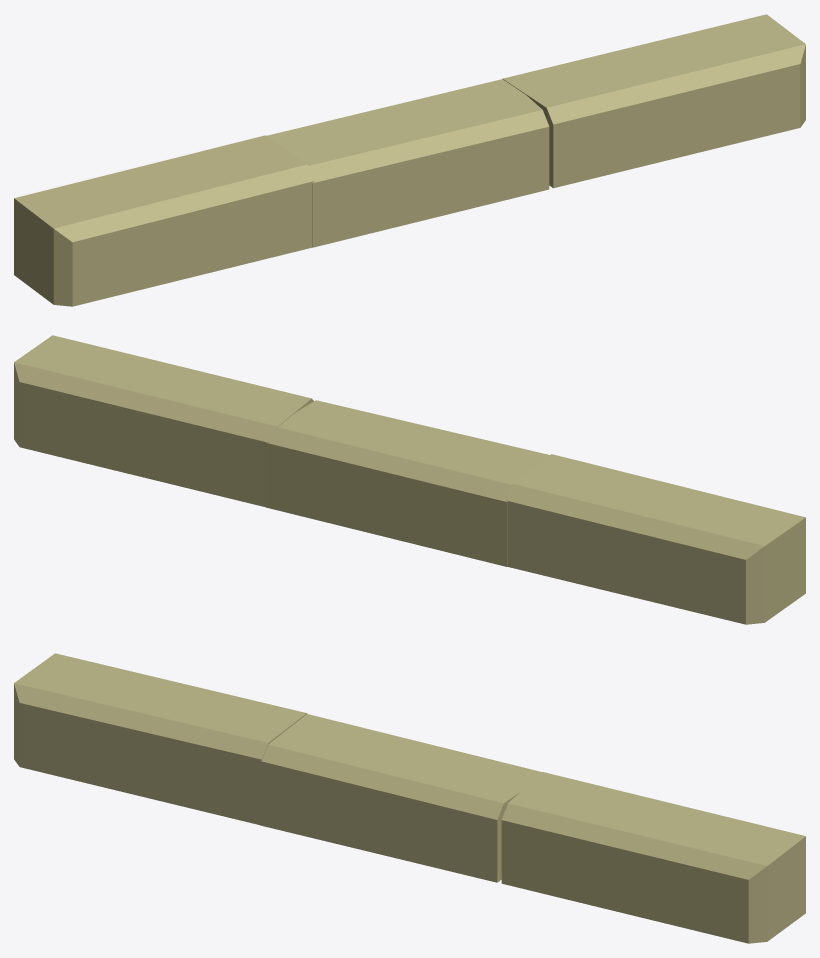
Rendered from WallBeamB.fbx.
3 views of the same model, one above another, from view 1: azimuth 30°, elevation 25°; view 2: azimuth 150°, elevation 25°; view 3: azimuth 330°, elevation 25° (orthographic).
Visible parts, largest first — view 1: WallBeamB; view 2: WallBeamB; view 3: WallBeamB.
Boxes of the visible parts, x1=… form: WallBeamB: x1=14, y1=14, x2=805, y2=306; WallBeamB: x1=14, y1=335, x2=805, y2=624; WallBeamB: x1=14, y1=653, x2=805, y2=943.
Size of the model in its own units: 1000 by 98.98 by 125.
